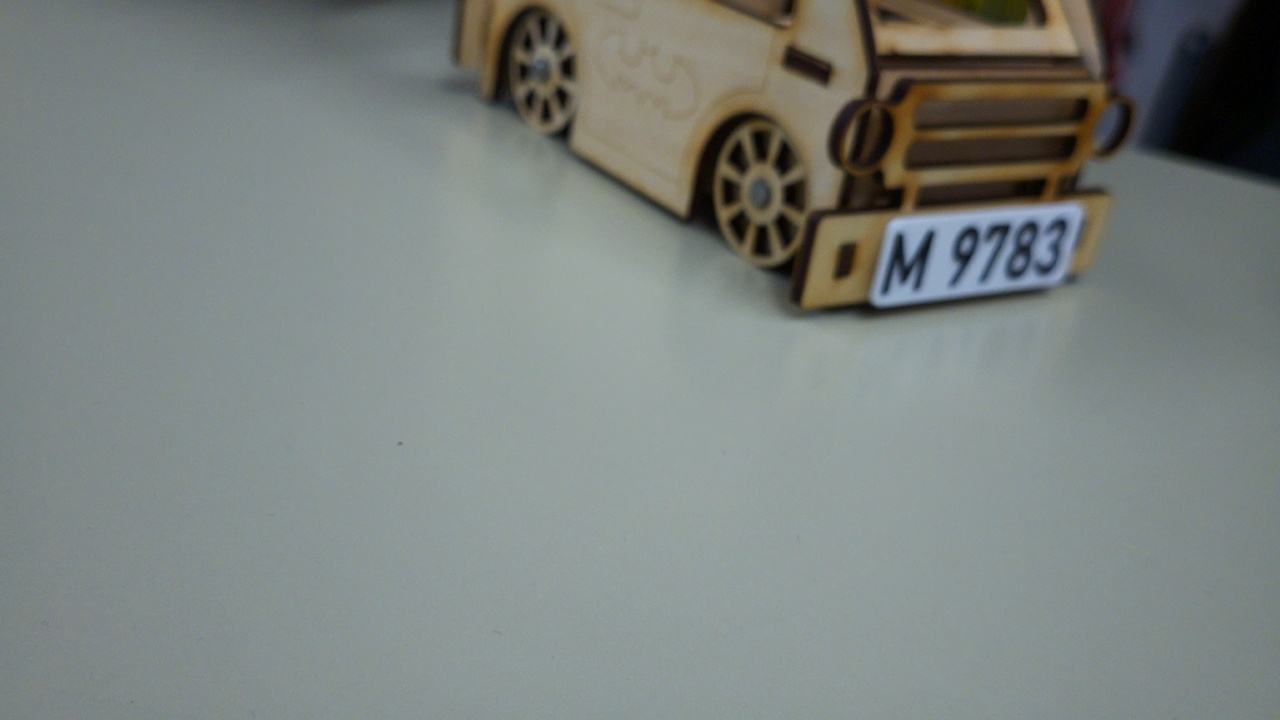license_plate: (870, 198, 1088, 310)
